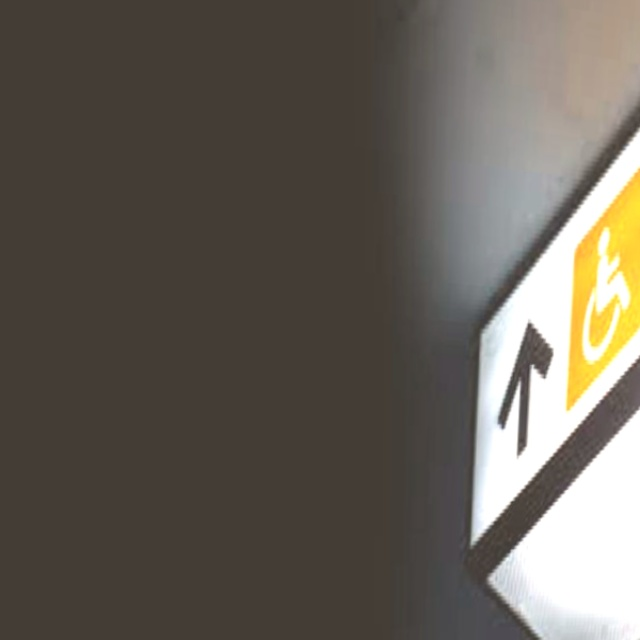ISA: (579, 229, 636, 367)
